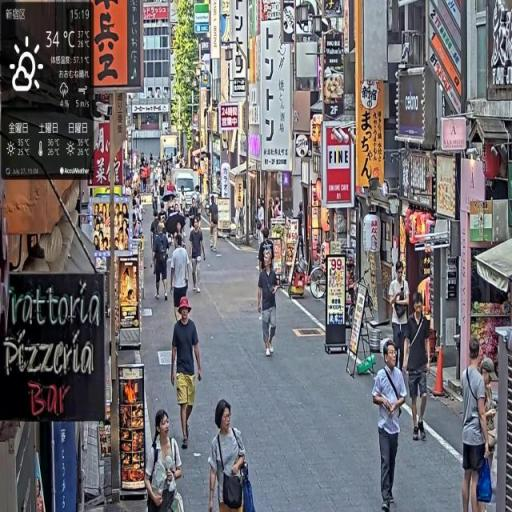person: (373, 338, 412, 512), (208, 398, 255, 512), (172, 297, 205, 451), (463, 338, 492, 512), (404, 294, 434, 444), (145, 409, 185, 512), (388, 260, 412, 375), (258, 249, 280, 359), (189, 216, 207, 295), (152, 224, 170, 302)
